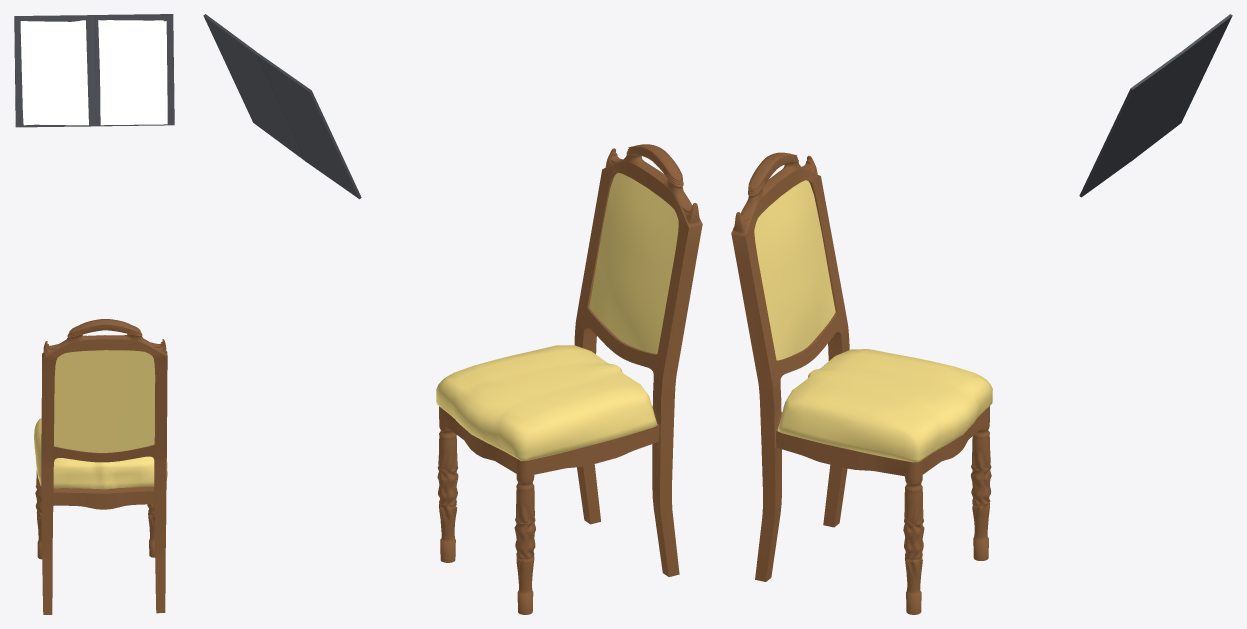
The model's file is piano_others.fbx.
3 renders of one model, left to right at view 1: azimuth 30°, elevation 25°; view 2: azimuth 150°, elevation 25°; view 3: azimuth 270°, elevation 25°, orthographic. The views are drawn at different scales.
Visible parts, largest first — view 1: Upholstery_low, Chair_low, Loose_sheet_03_Mesh.048, Loose_sheet_03_Mesh.001, Plane.003, Plane.005; view 2: Upholstery_low, Chair_low, Plane.003; view 3: Upholstery_low, Chair_low, Plane.003.
Boxes of the visible parts, box(x1,y1,x2,y2) form: Upholstery_low: box(34, 350, 167, 489); Chair_low: box(35, 319, 167, 614); Loose_sheet_03_Mesh.048: box(20, 20, 88, 125); Loose_sheet_03_Mesh.001: box(98, 20, 166, 124); Plane.003: box(14, 14, 174, 127); Plane.005: box(100, 21, 167, 125); Upholstery_low: box(436, 173, 678, 461); Chair_low: box(437, 144, 702, 614); Plane.003: box(203, 14, 361, 199); Upholstery_low: box(754, 180, 992, 462); Chair_low: box(731, 152, 991, 614); Plane.003: box(1079, 14, 1232, 197).
Bounding box in the file's own units: 159 × 270 × 209.
